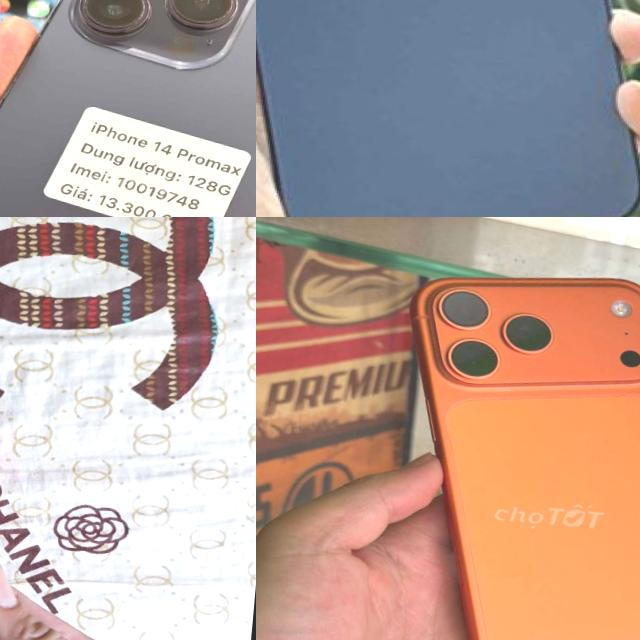gen_12_13: (256, 0, 640, 217)
gen_14: (0, 0, 256, 217)
gen_17: (366, 248, 640, 640)
gen_7_8: (0, 330, 37, 640)
